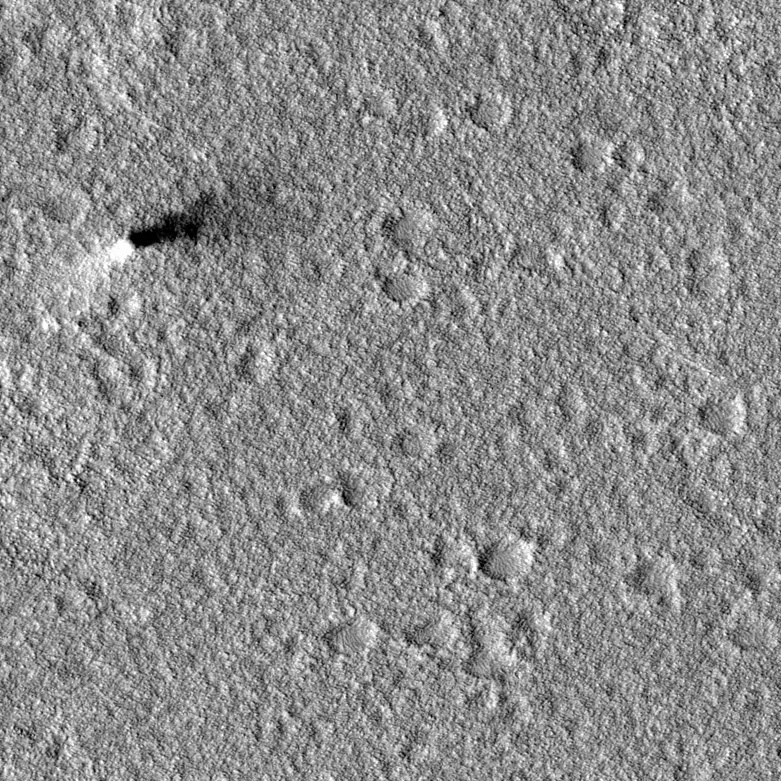dust_devil: (102, 184, 233, 266)
